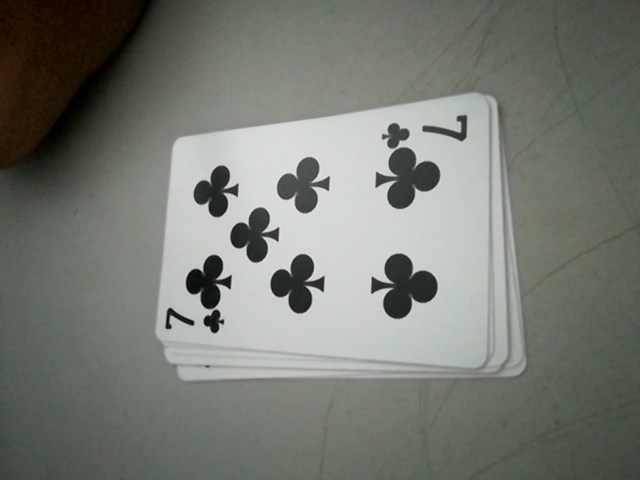mh 7: (378, 109, 478, 150), (160, 305, 226, 342)
